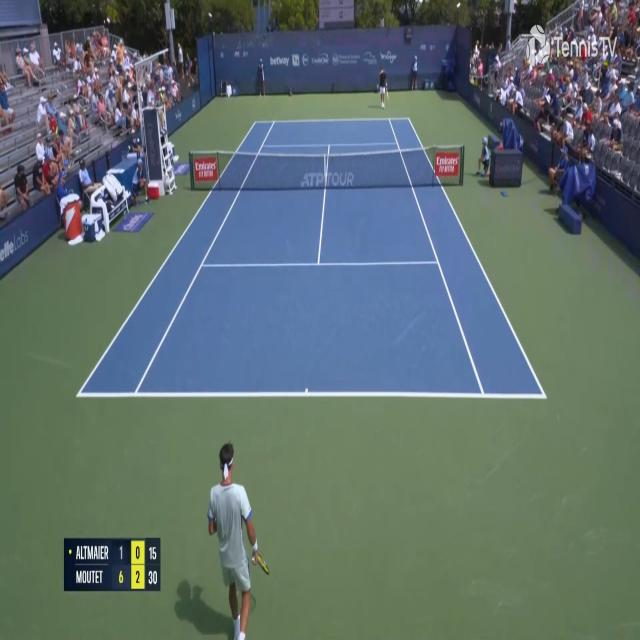tennis-player: (206, 438, 273, 639), (373, 65, 389, 109)
